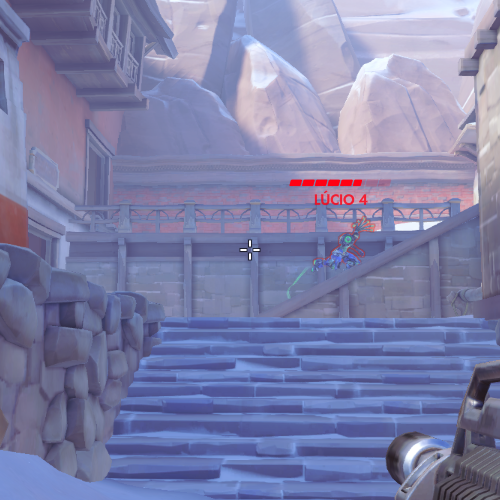hpbar: (289, 179, 392, 187)
